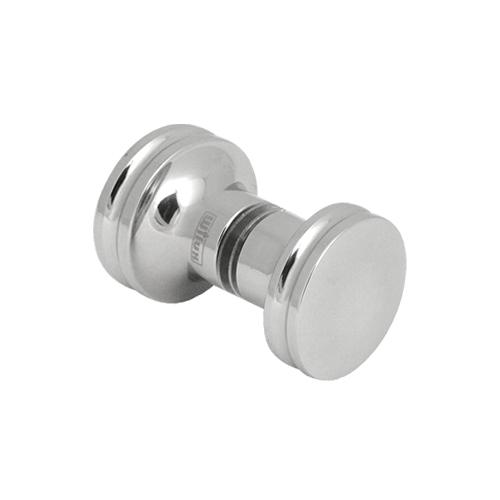doorhandle: (72, 131, 430, 394)
